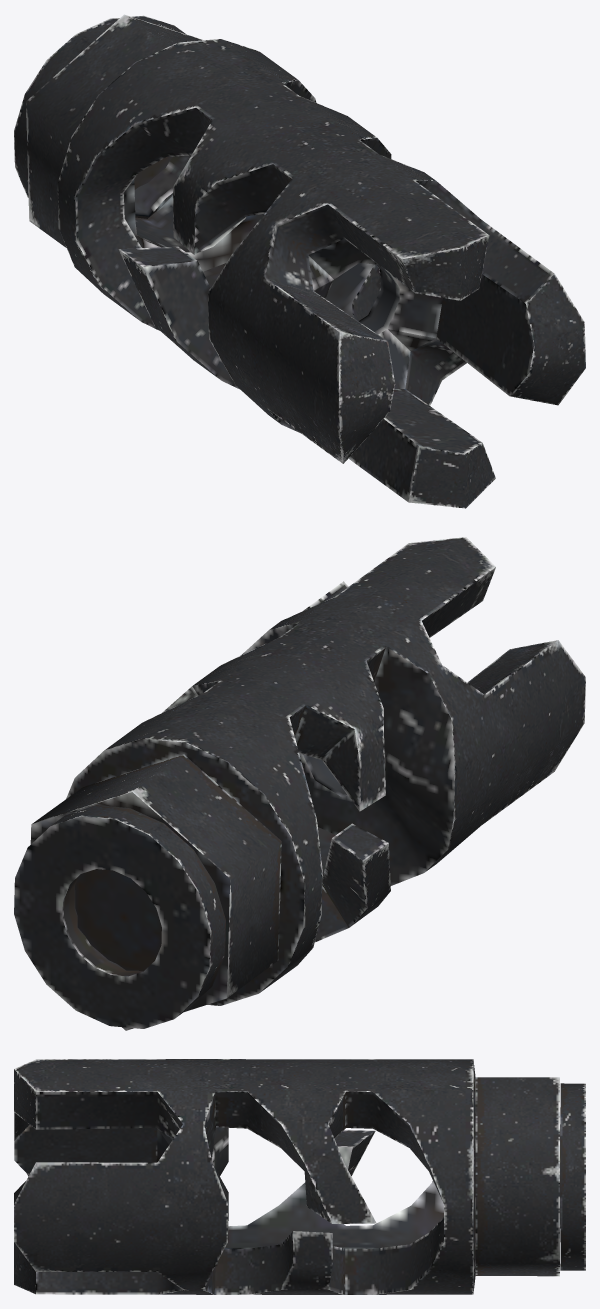
Rendered from Compensator.FBX.
3 views of the same model, one above another, from view 1: azimuth 30°, elevation 25°; view 2: azimuth 150°, elevation 25°; view 3: azimuth 270°, elevation 25° (orthographic). The views are drawn at different scales.
Parts seen in each view (by area): view 1: L_Compensater_01; view 2: L_Compensater_01; view 3: L_Compensater_01.
Part boxes in pixels (<box>): L_Compensater_01: <box>14,14,585,508</box>; L_Compensater_01: <box>14,537,585,1030</box>; L_Compensater_01: <box>14,1059,585,1294</box>.
Size of what is drawn, in the model's own units: 2.99 by 3.02 by 7.31.
